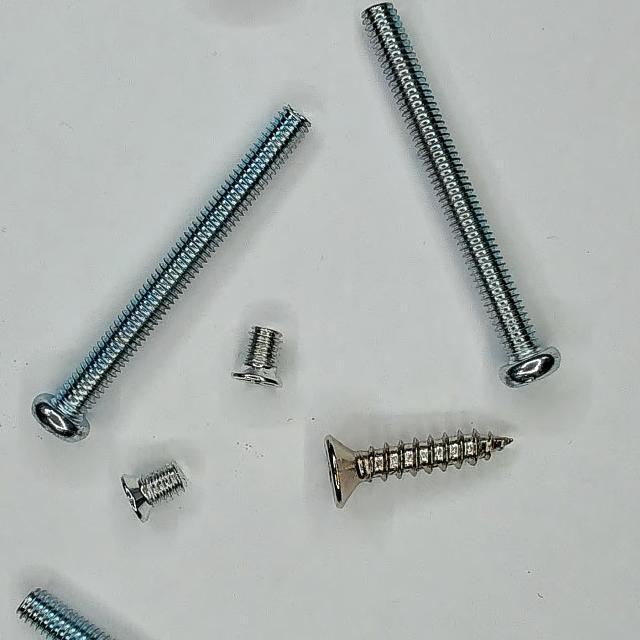Screw: (31, 106, 311, 442), (364, 2, 561, 386), (326, 431, 514, 508), (16, 590, 110, 640), (121, 464, 187, 522), (232, 327, 283, 386)
